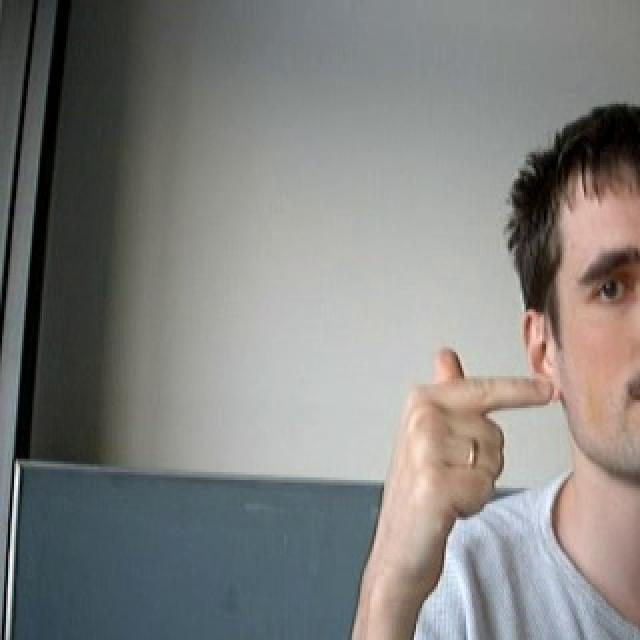T: (341, 317, 564, 591)
